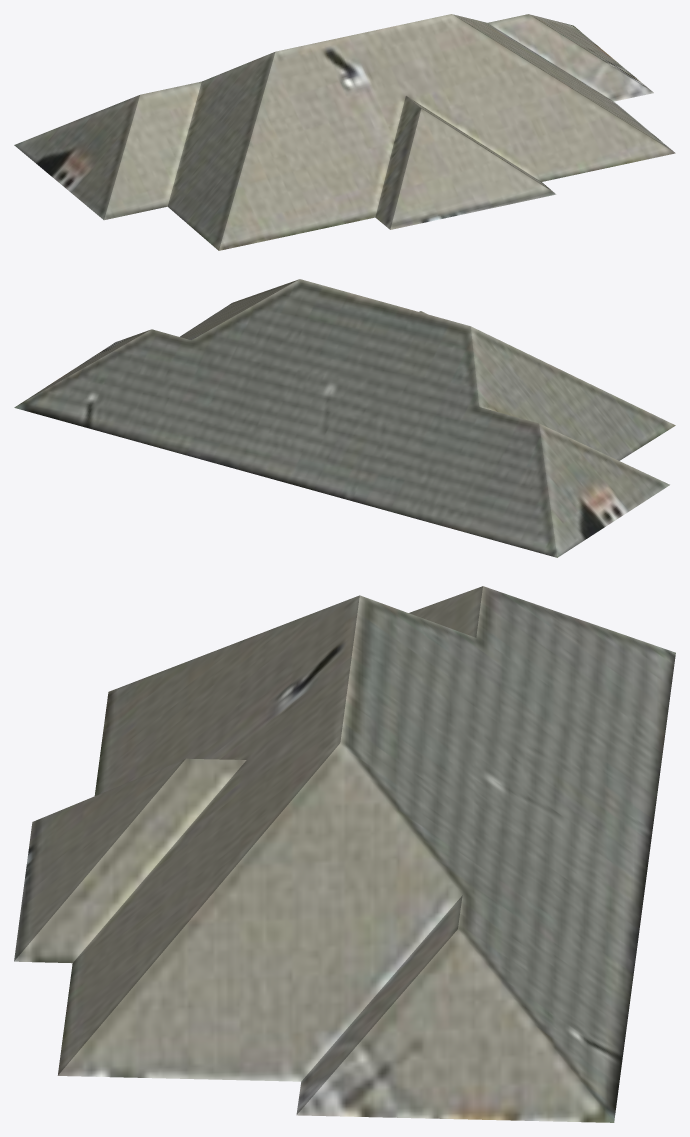
The model's file is CG10_500_045065_0001_roof.obj.
3 views of the same model, one above another, from view 1: azimuth 30°, elevation 25°; view 2: azimuth 150°, elevation 25°; view 3: azimuth 270°, elevation 25° (orthographic). The views are drawn at different scales.
Visible parts, largest first — view 1: CG10_500_045065_0001_roof; view 2: CG10_500_045065_0001_roof; view 3: CG10_500_045065_0001_roof.
Boxes of the visible parts, x1,y1,x2,y2 form: CG10_500_045065_0001_roof: [14, 14, 675, 250]; CG10_500_045065_0001_roof: [14, 279, 675, 557]; CG10_500_045065_0001_roof: [14, 586, 675, 1122].
Size of the model in its own units: 347 by 70 by 203.
1 material, 1 textured.
